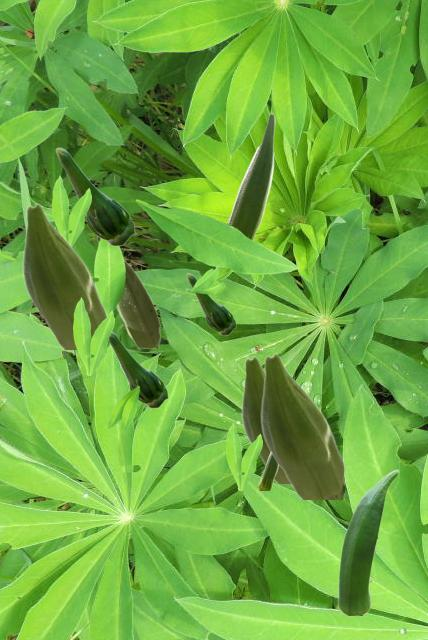okra: (22, 203, 105, 348), (260, 353, 343, 498), (337, 469, 398, 614), (55, 147, 134, 245), (96, 237, 159, 347), (226, 112, 274, 239), (241, 356, 288, 482), (108, 331, 167, 407), (186, 273, 235, 334), (258, 453, 278, 489)
